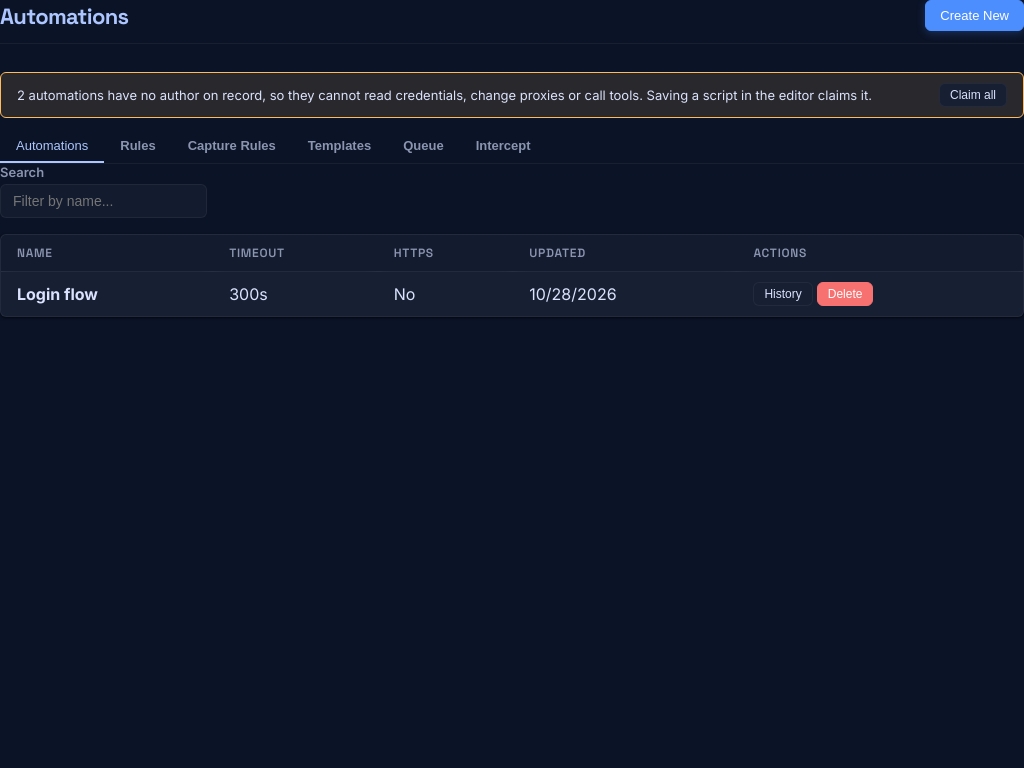
Test: Automations: claiming scripts nobody has claimed › keeps the banner and reports the error when the claim fails
The width and height of the screenshot is (1024, 768).
Click the button with test id "claim-all-button".
click(973, 95)  # box [939,83,1007,107]
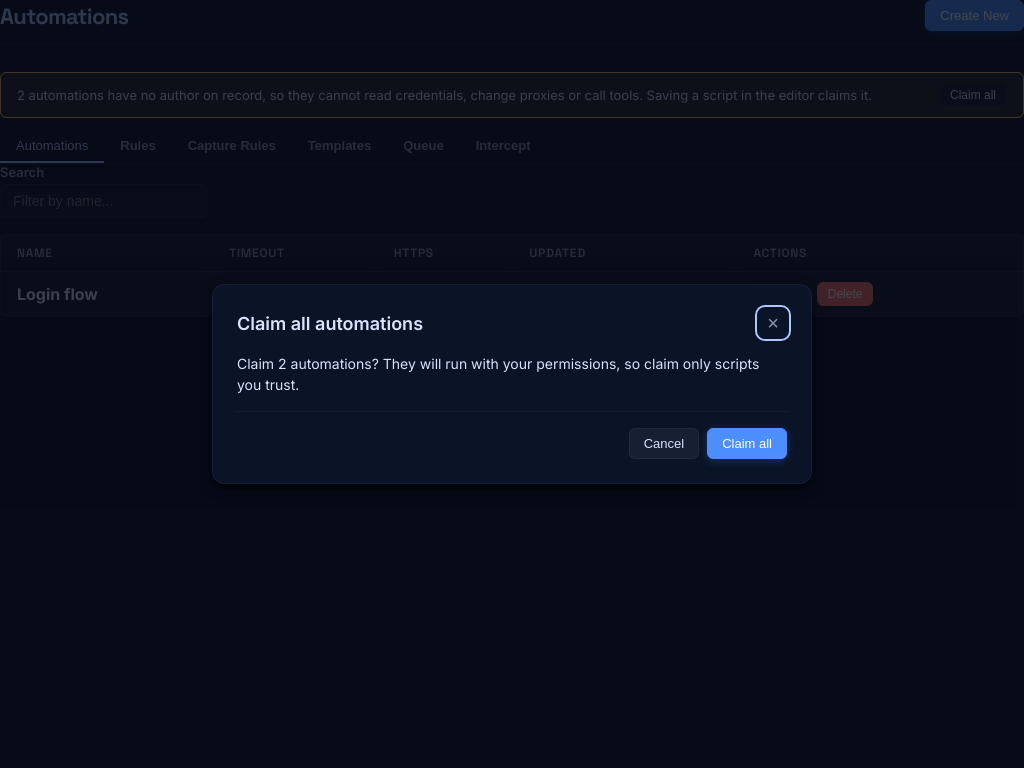
Click the button with test id "confirm-dialog-confirm".
click(747, 444)  # box [707,428,787,459]
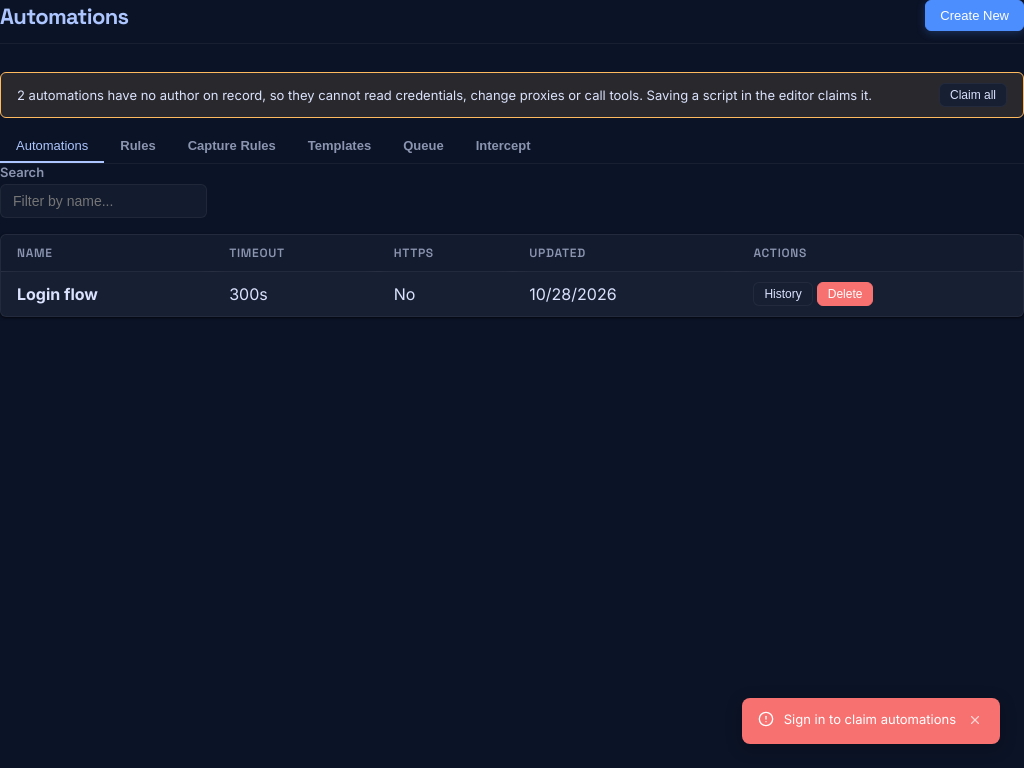
Check: the element with test id "automations-claim-banner" is shown, box [0,72,1023,118]
Check: the text "Sign in to claim automations" is shown, box [784,710,956,728]
